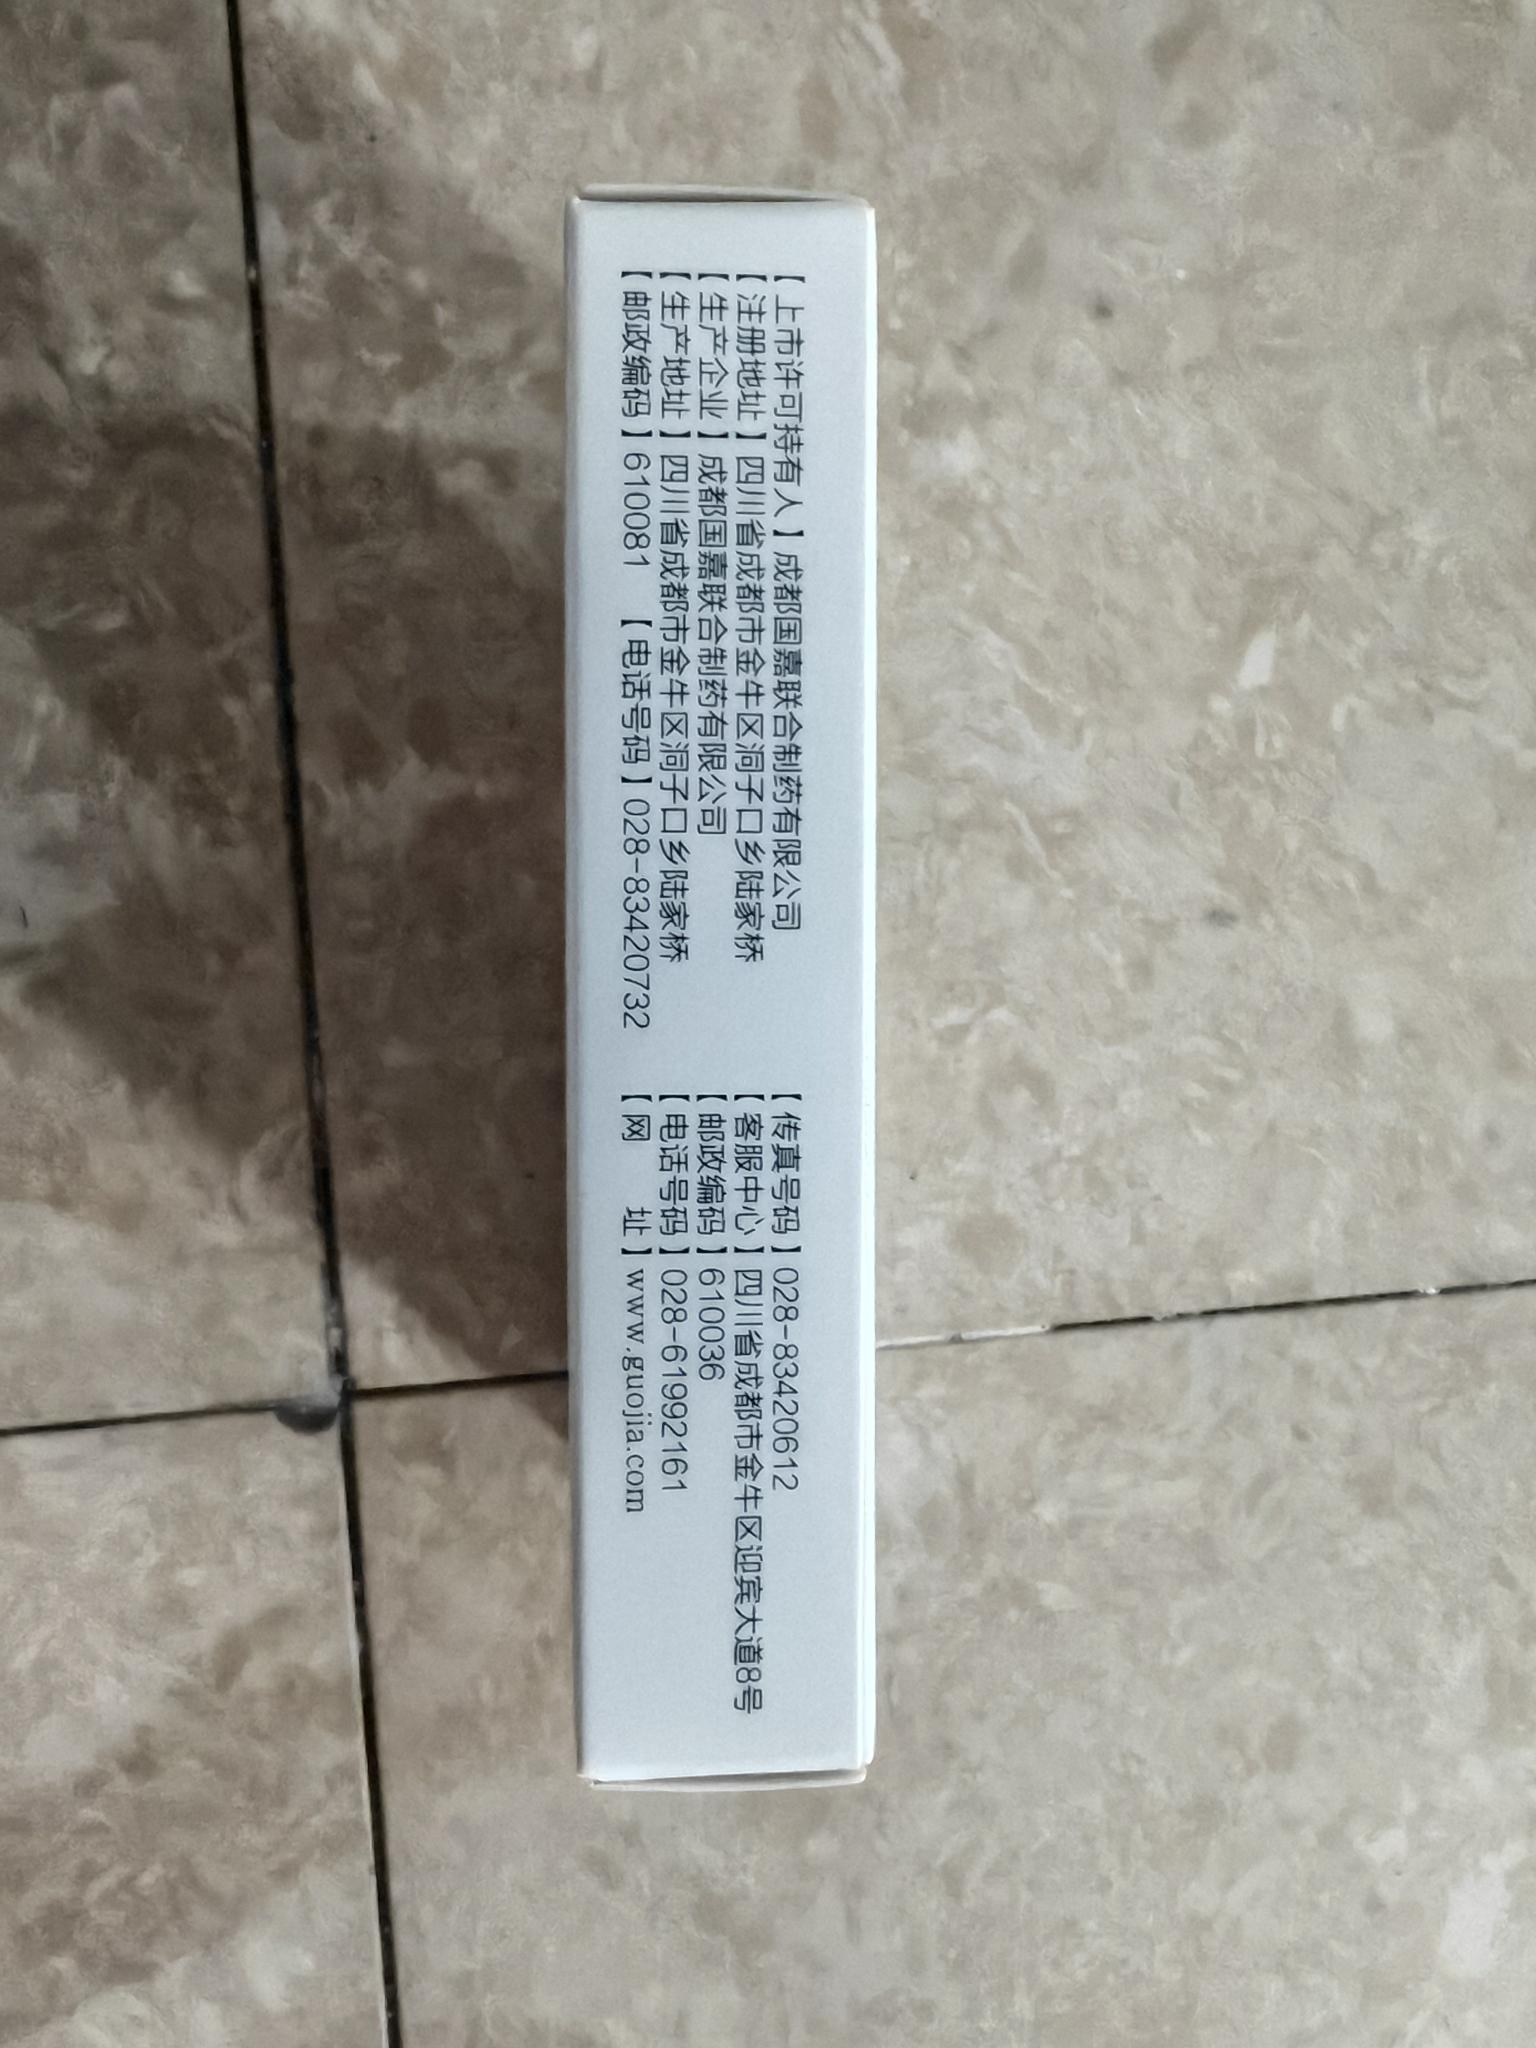Medicine4: (544, 155, 905, 1825)
